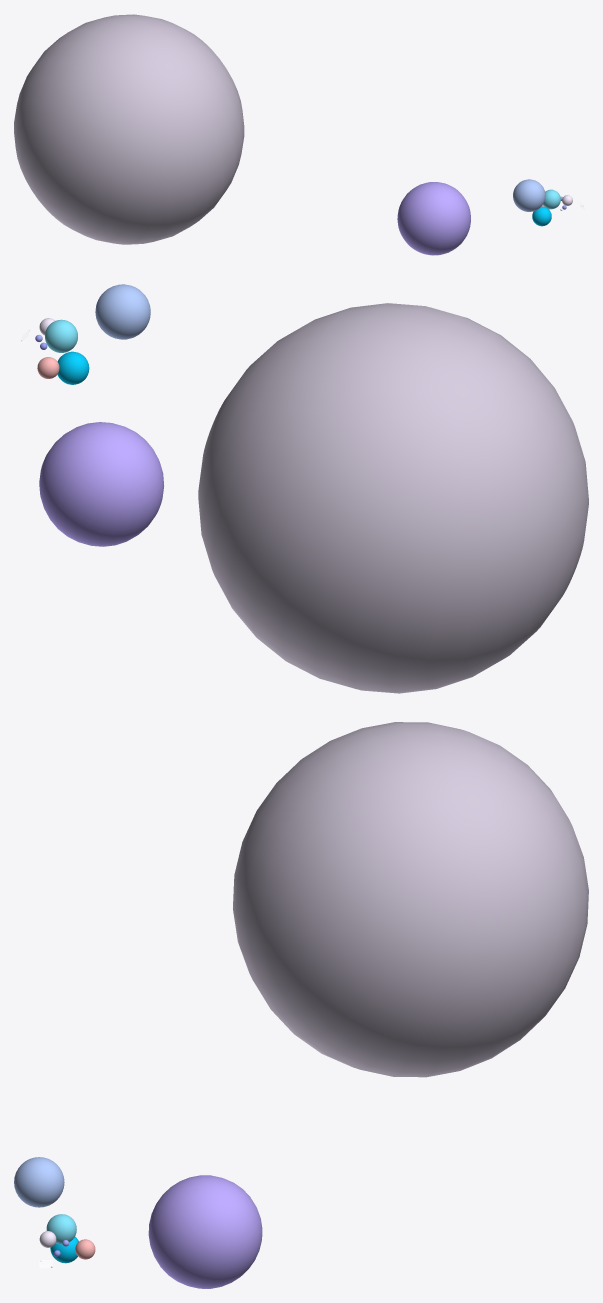
Rendered from example.glb.
3 renders of one model, top to bottom at view 1: azimuth 30°, elevation 25°; view 2: azimuth 150°, elevation 25°; view 3: azimuth 270°, elevation 25°, orthographic. The views are drawn at different scales.
Visible parts, largest first — view 1: Sphere 10, Sphere 8, Sphere 6; view 2: Sphere 10, Sphere 8, Sphere 6, Sphere 1, Sphere 3; view 3: Sphere 10, Sphere 8, Sphere 6.
Boxes of the visible parts, <box> form: Sphere 10: <box>14,14,244,244</box>; Sphere 8: <box>397,182,470,255</box>; Sphere 6: <box>513,179,545,211</box>; Sphere 10: <box>198,303,588,693</box>; Sphere 8: <box>39,422,163,546</box>; Sphere 6: <box>95,284,150,339</box>; Sphere 1: <box>45,319,77,352</box>; Sphere 3: <box>57,351,89,384</box>; Sphere 10: <box>233,722,588,1077</box>; Sphere 8: <box>148,1175,262,1288</box>; Sphere 6: <box>14,1157,64,1207</box>.
Size of the model in its own units: 7.19 by 3.68 by 5.25.
Materials: 21 (6 with a texture image).
